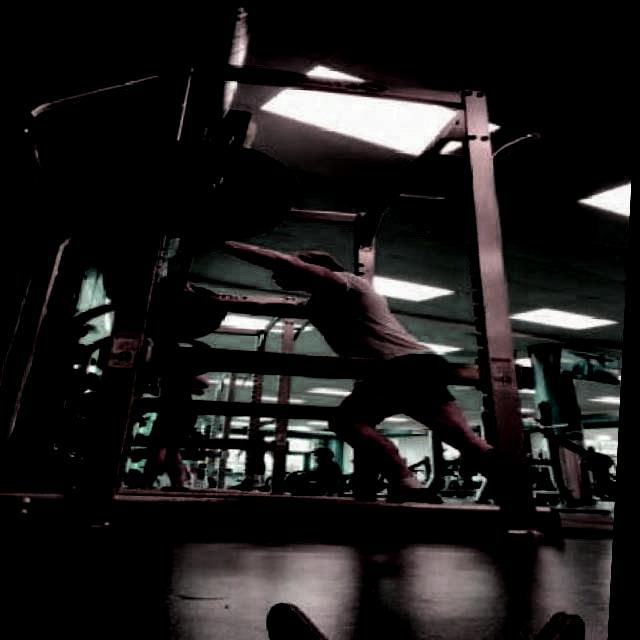barbell: (111, 126, 305, 230)
